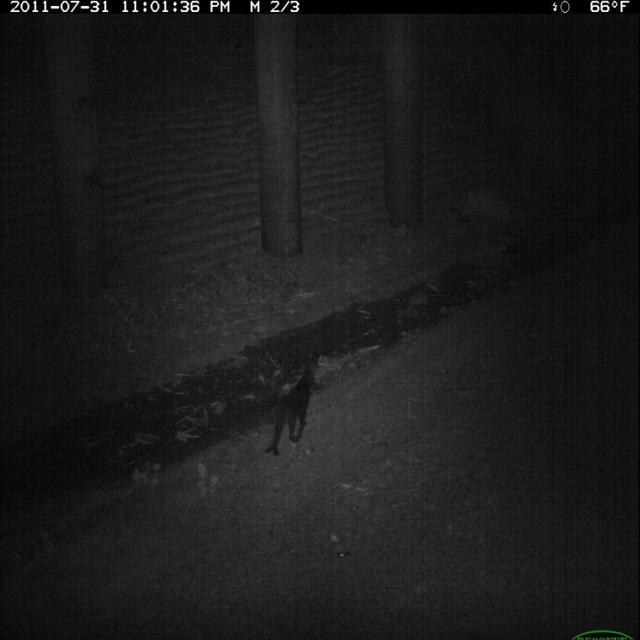cat: (263, 354, 324, 462)
